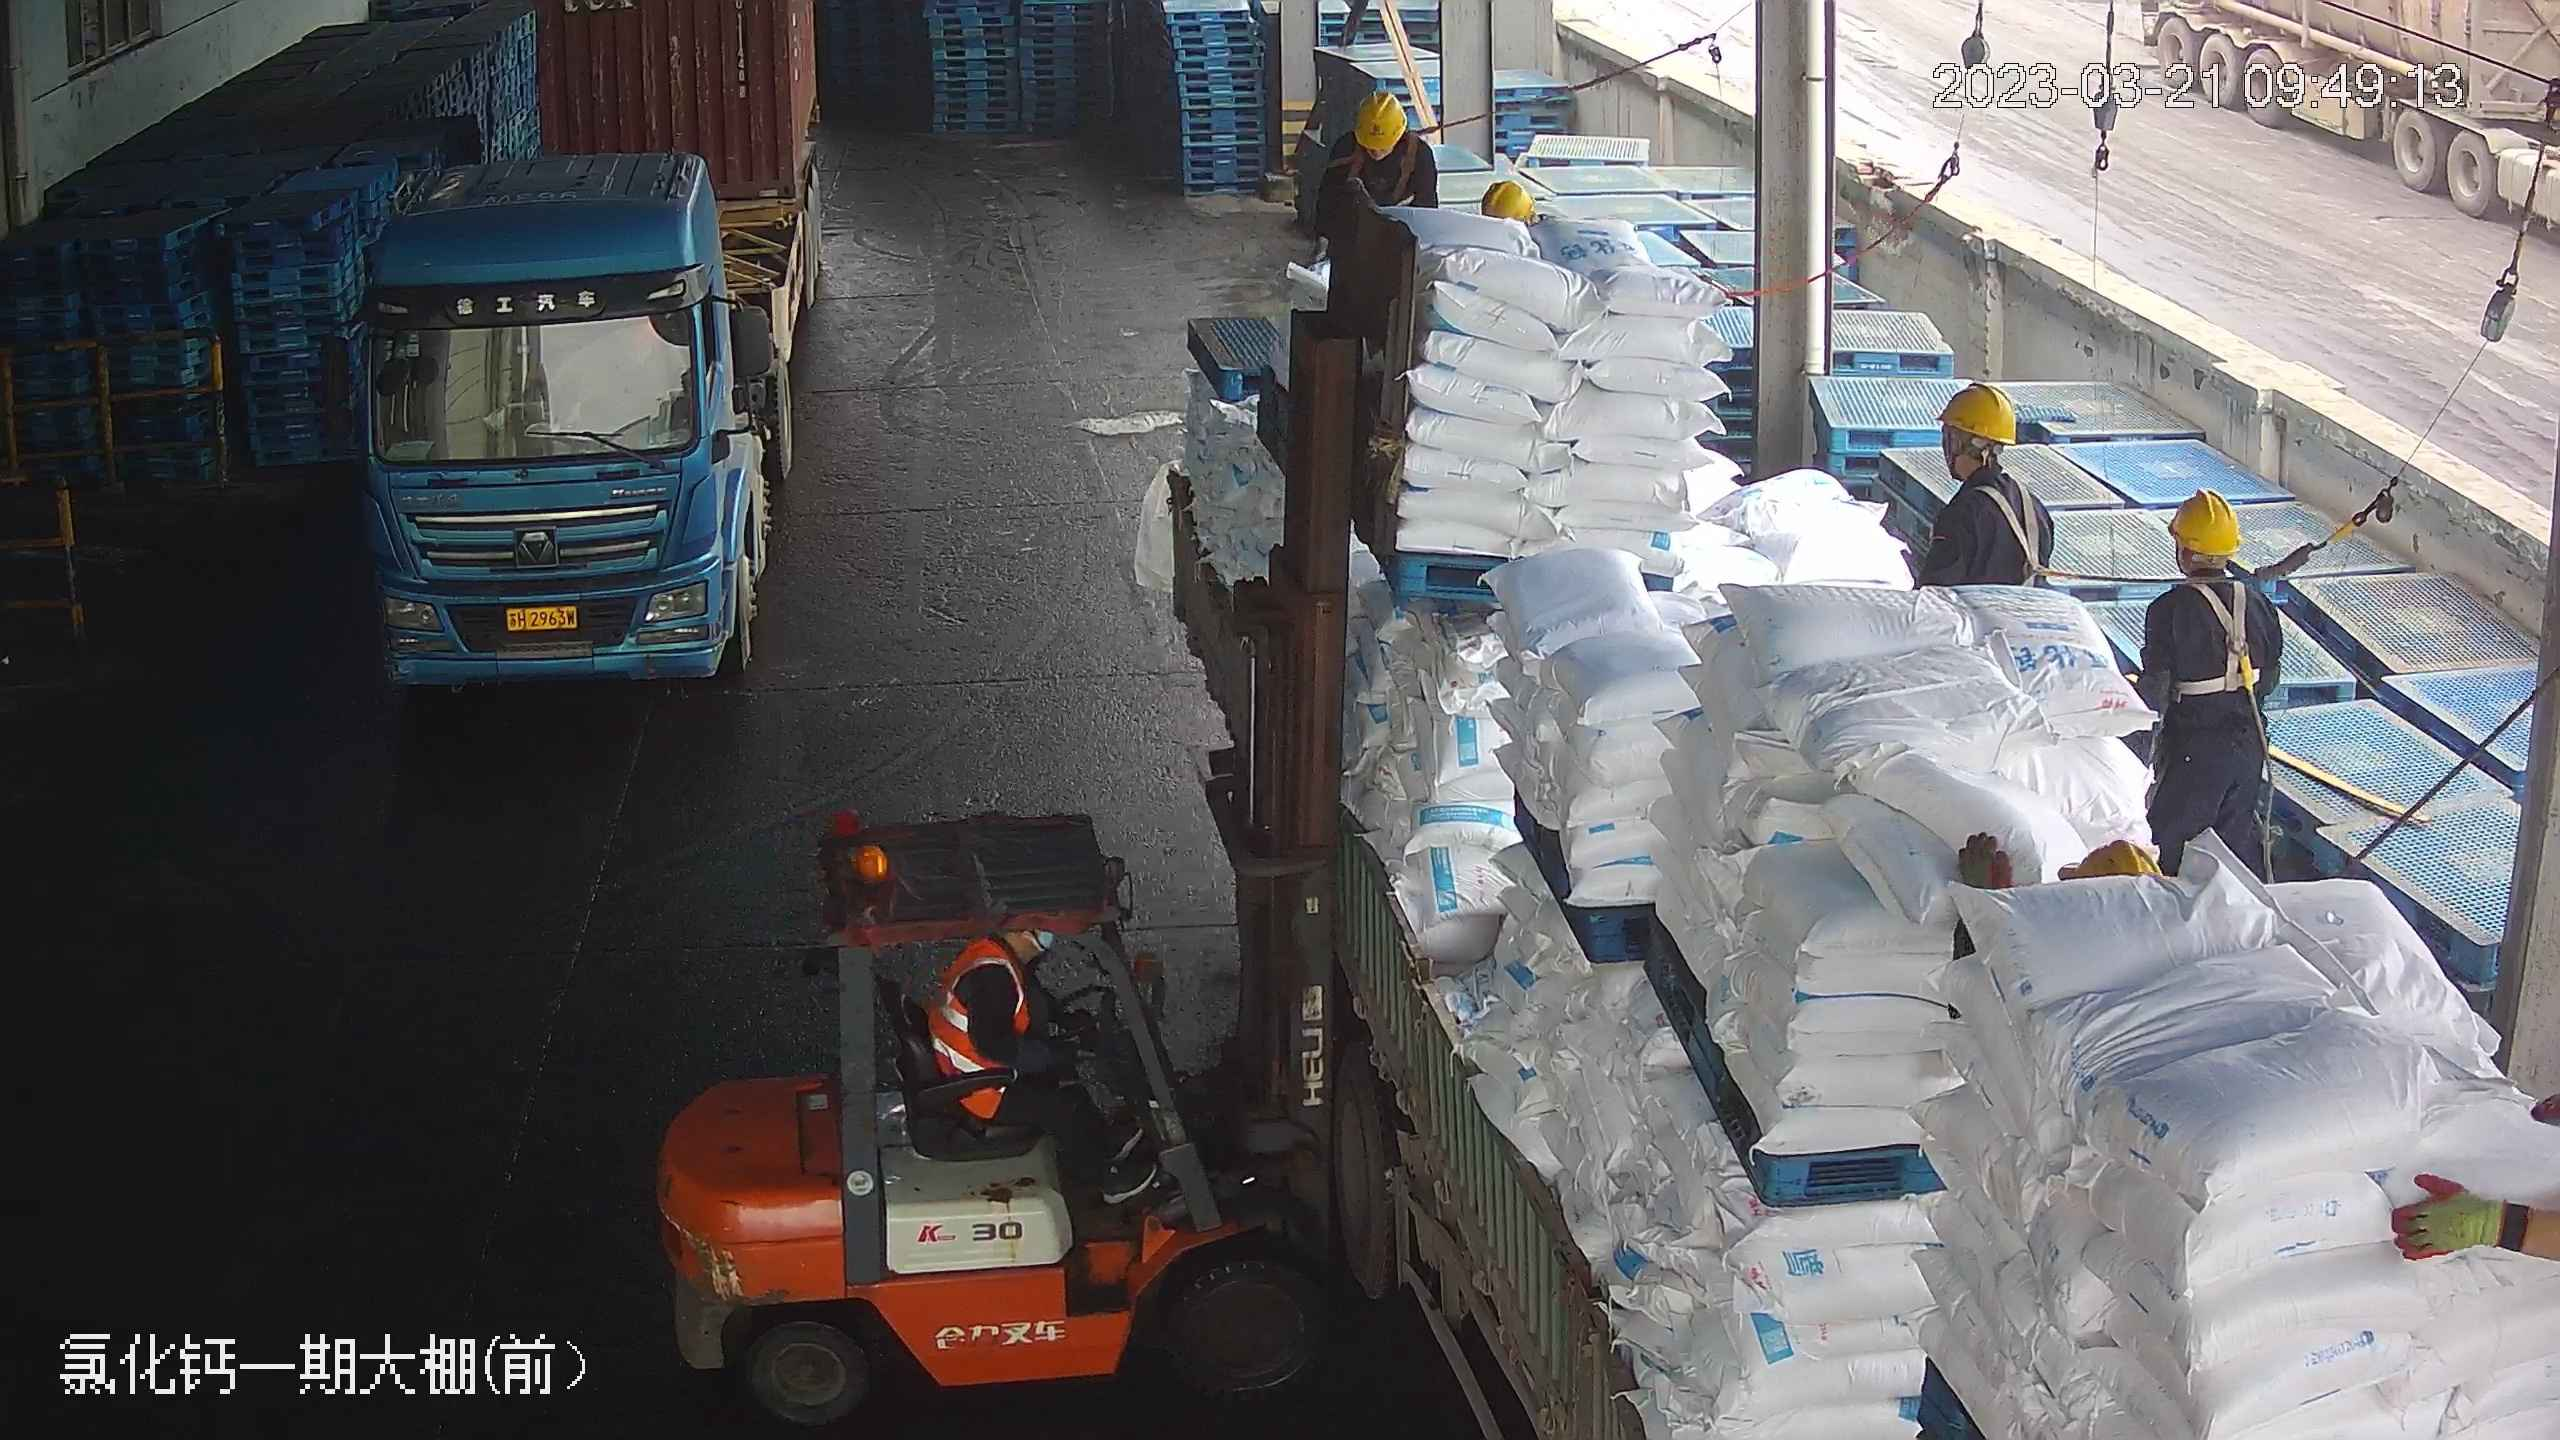belt: (2165, 571, 2269, 701), (1970, 473, 2057, 577), (1349, 142, 1419, 199)
head: (1915, 380, 2055, 553), (2138, 484, 2278, 645), (1313, 86, 1436, 198)
helmet: (1930, 379, 2019, 446), (2164, 486, 2242, 552), (1351, 88, 1407, 149), (1476, 176, 1537, 220)
people: (2382, 927, 2560, 1440), (2125, 486, 2285, 880), (926, 927, 1150, 1199)
truck: (1175, 169, 2533, 1439), (320, 1, 835, 690)
